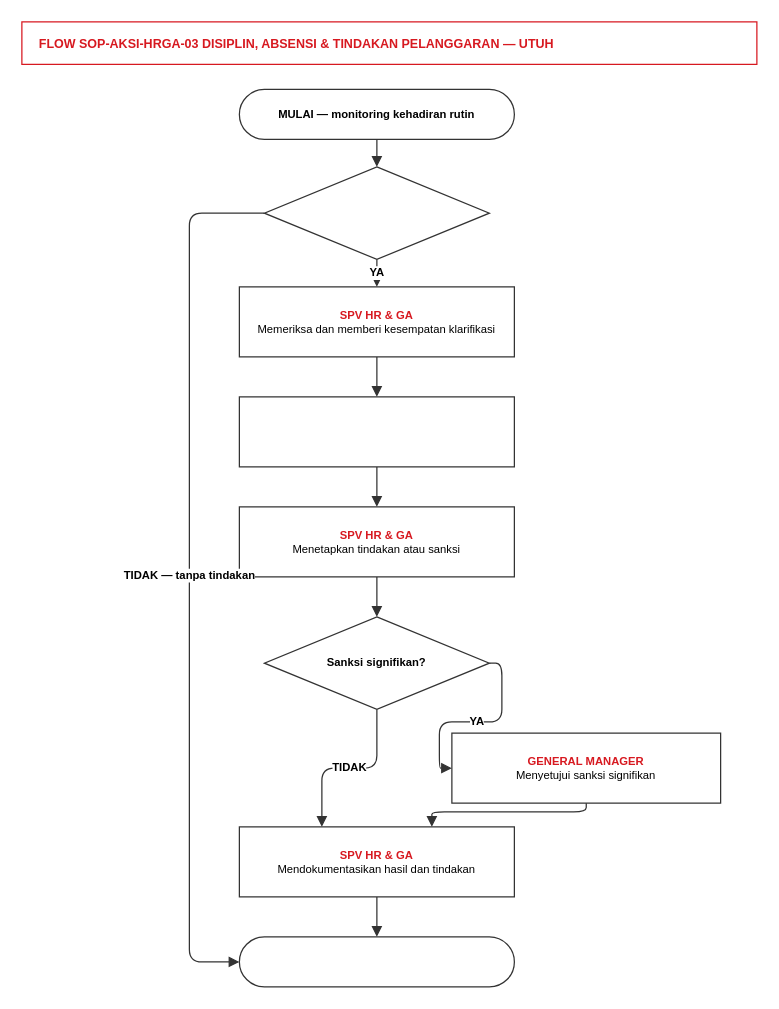
Some shapes in this 779 by 1009 pixel diagram are drawn without their labels. The shapes that lost their labels are listed below. From the top down, each one's centre as x and y in pixels, then its label:
the point at 376,212: Ada dugaan pelanggaran?
the point at 376,431: FOREMAN HR & GA Memeriksa kelengkapan administrasi
the point at 376,961: SELESAI
